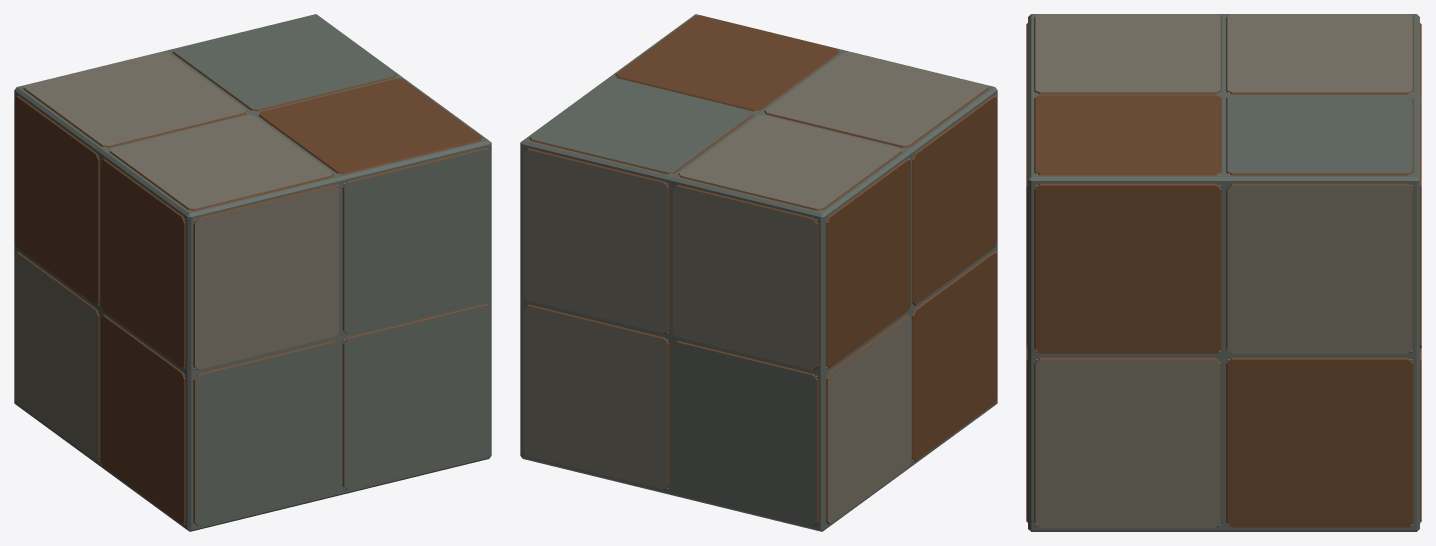
File: R4B_BigCube2.fbx
The picture shows the model from 3 angles, left to right: view 1: azimuth 30°, elevation 25°; view 2: azimuth 150°, elevation 25°; view 3: azimuth 270°, elevation 25°; orthographic projection. The views are drawn at different scales.
Visible parts, largest first — view 1: R4B_BigCube2; view 2: R4B_BigCube2; view 3: R4B_BigCube2.
Boxes of the visible parts, x1=… form: R4B_BigCube2: x1=14, y1=14, x2=491, y2=531; R4B_BigCube2: x1=520, y1=14, x2=997, y2=531; R4B_BigCube2: x1=1026, y1=14, x2=1421, y2=531.
Bounding box in the file's own units: 1.07 × 1.07 × 1.07.
